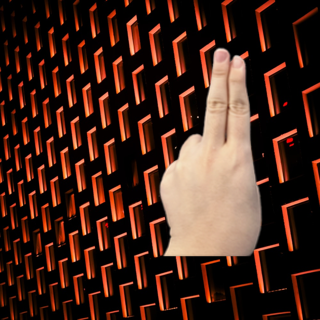DHAVE: (155, 44, 268, 252)
